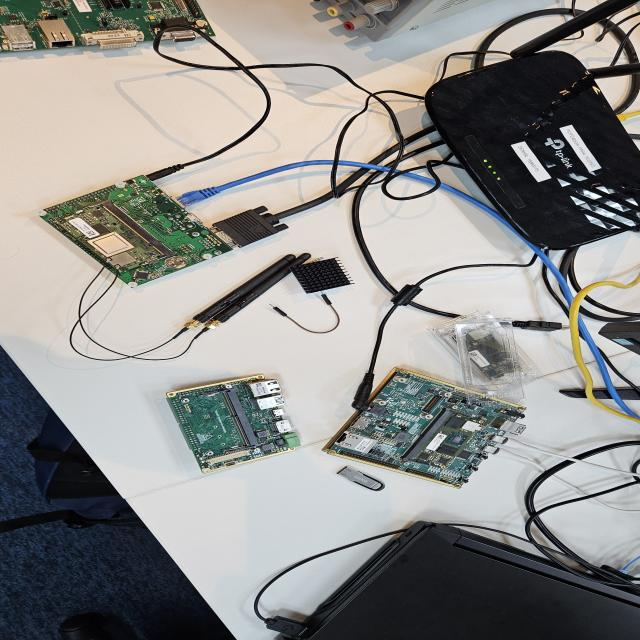som: (52, 197, 168, 273), (403, 415, 488, 468), (451, 324, 521, 381)
